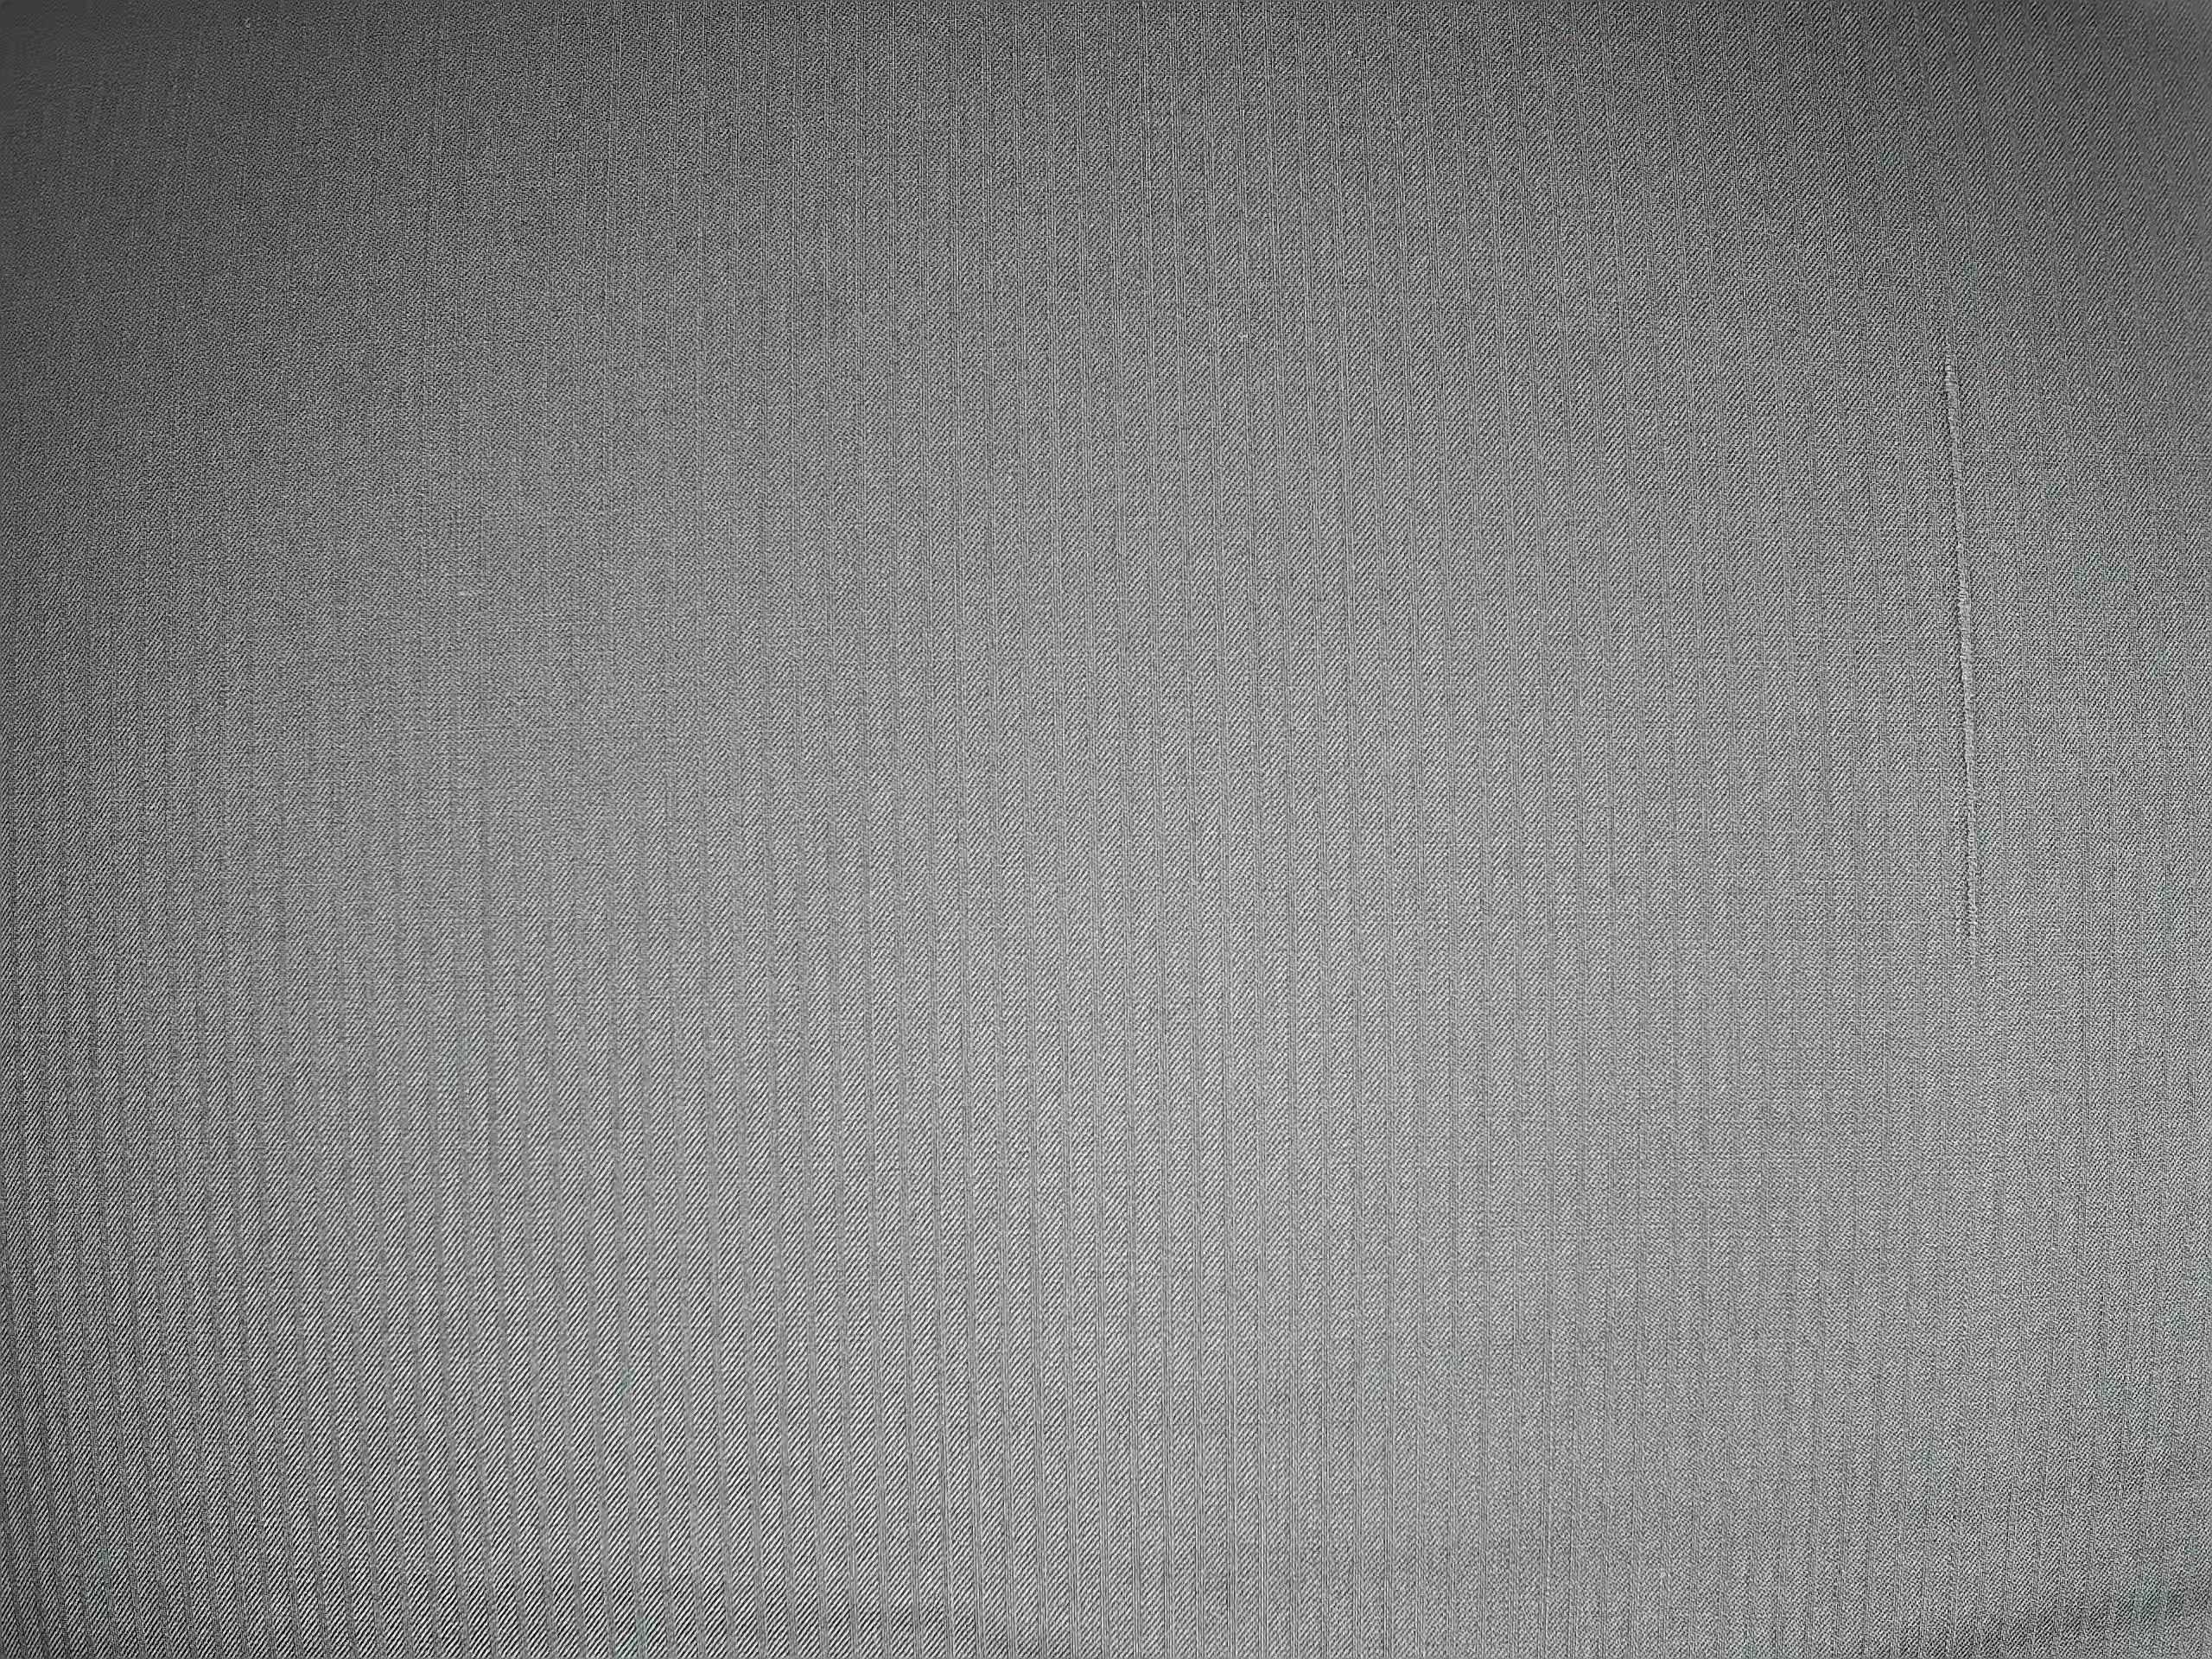hanging-warp: (1921, 312, 2013, 985)
